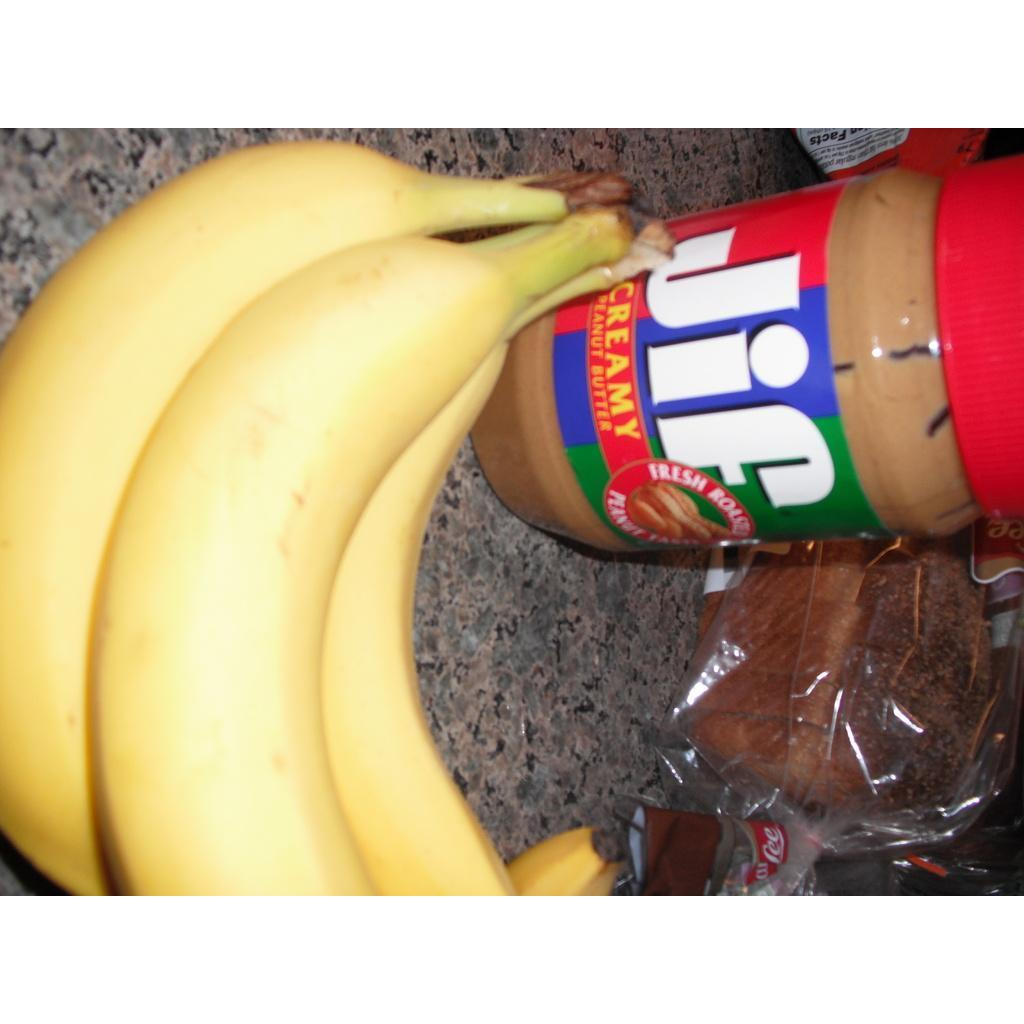banana: (0, 148, 639, 896), (88, 212, 633, 896)
